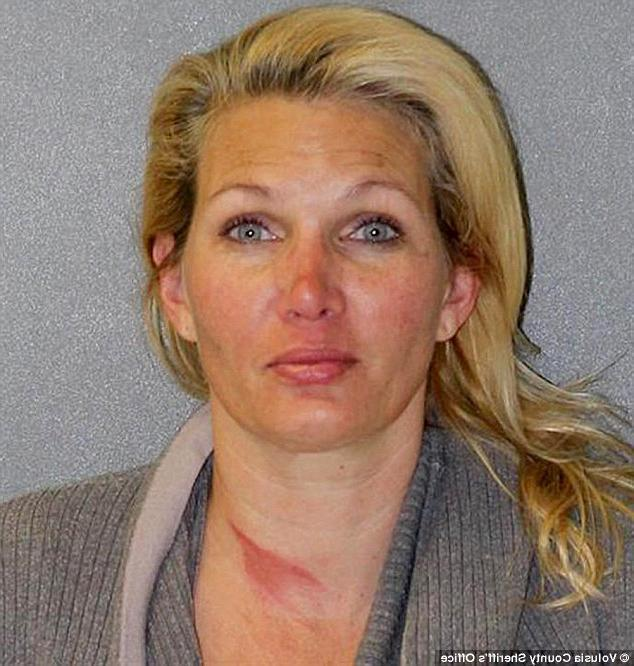Drunk: (203, 106, 416, 423)
